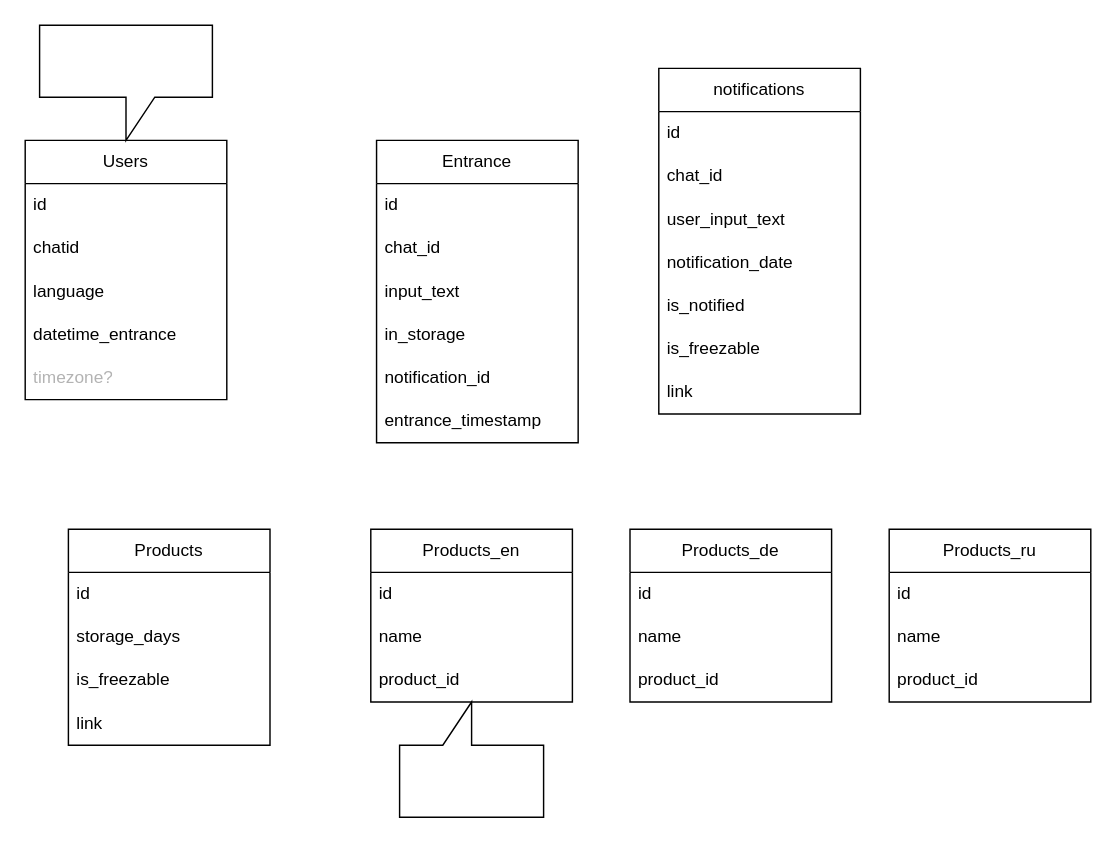
Image size: 1116x842. Some labels were removed from this diagram. The centre of each missing label's shape, as x and y in pixels:
by selecting language at the begginnig: the point at 125,82
in name we write names with typos: the point at 471,759
